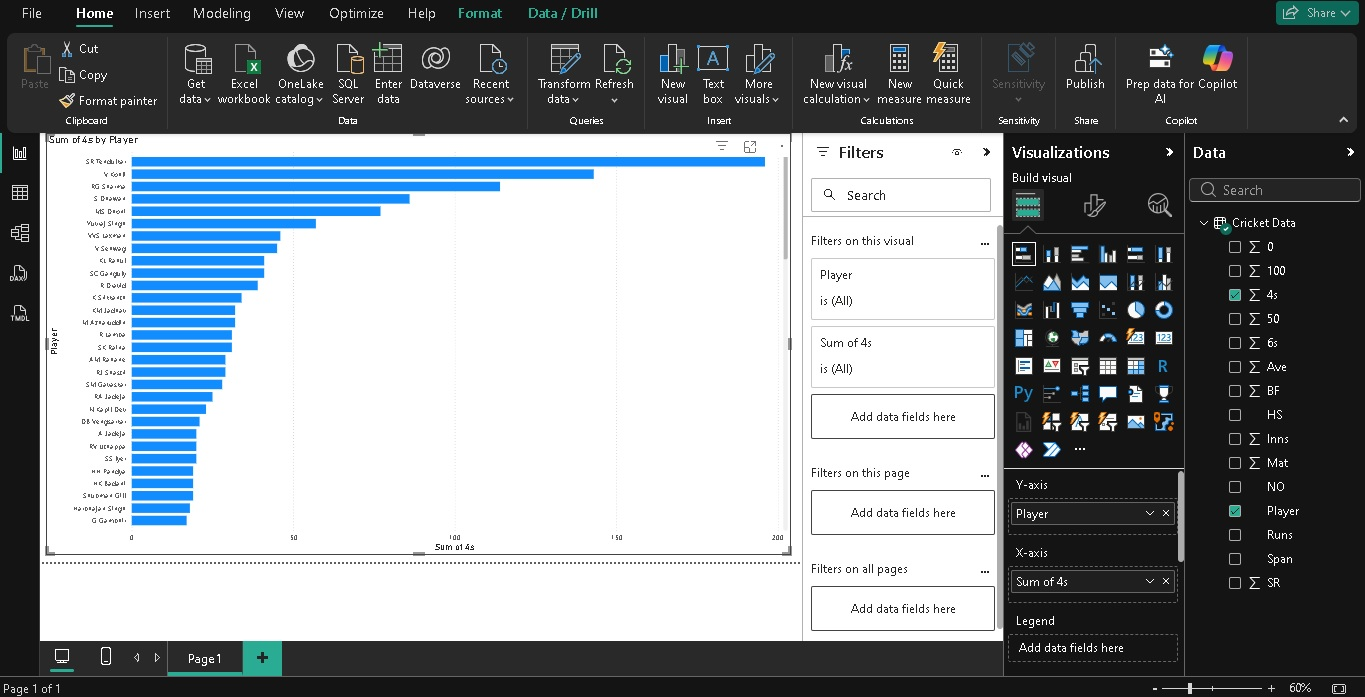

The dashboard page shown, as its layout file describes it:
{"tool":"powerbi","page":{"name":"Page 1","canvas":[1280,720],"ordinal":0},"visuals":[{"type":"barChart","fields":{"Category":["Cricket Data.Player"],"Y":["Sum(Cricket Data.4s)"]},"box":[10.1,0,1251.4,708.9],"z":0}]}

Visuals, with their boxes on the page's 1280x720 design canvas (x1, y1, x2, y2). These are canvas units, not pixel positions in the 1365x697 screenshot, which may show the page scaled, cropped or inside an application window:
barChart - Cricket Data.Player x Sum(Cricket Data.4s): (left=10, top=0, right=1262, bottom=709)
